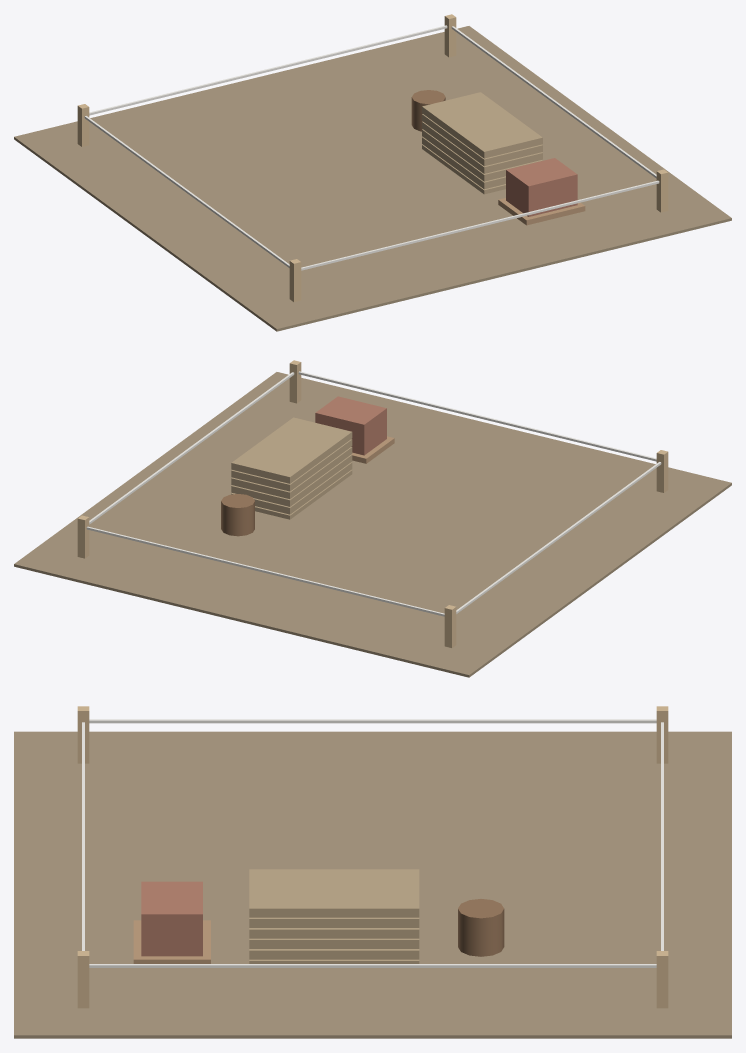
File: orchard_site_0.glb
The picture shows the model from 3 angles, top to bottom: view 1: azimuth 30°, elevation 25°; view 2: azimuth 150°, elevation 25°; view 3: azimuth 270°, elevation 25°; orthographic projection. The views are drawn at different scales.
Visible parts, largest first — view 1: body; view 2: body; view 3: body.
Boxes of the visible parts, box(x1,y1,x2,y2) form: body: box(14, 14, 731, 331); body: box(14, 360, 731, 677); body: box(14, 706, 731, 1038).
Bounding box in the file's own units: 1.86 × 0.176 × 1.86.
